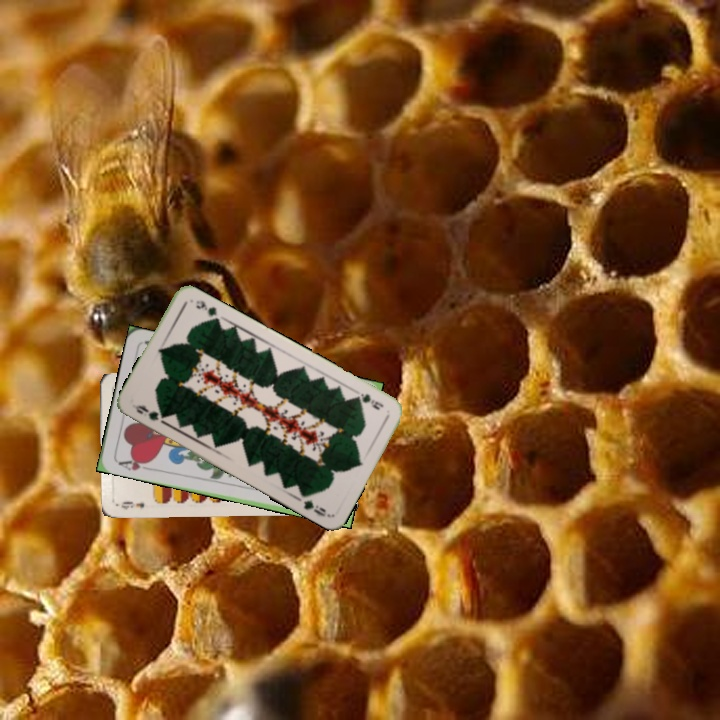E9: (117, 497, 147, 512)
G9: (129, 401, 168, 426), (350, 389, 386, 412)
HA: (114, 453, 154, 473)
